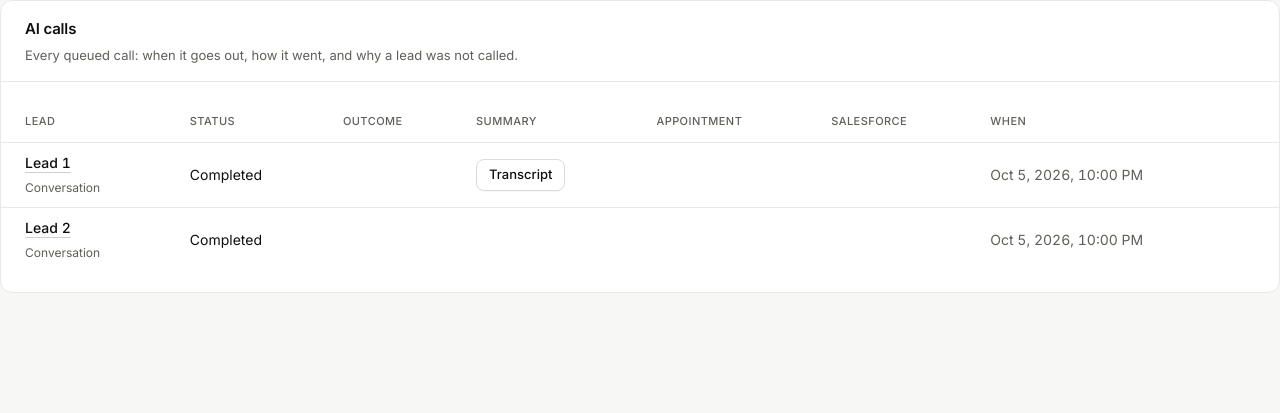
Test: AiCallResults › 4: the transcript opens only where it may be read, and labels who spoke
What coordinates should you click on to do the following:
click the button "Transcript"
I would click on:
 (521, 174)
Its box is [476, 158, 565, 190].
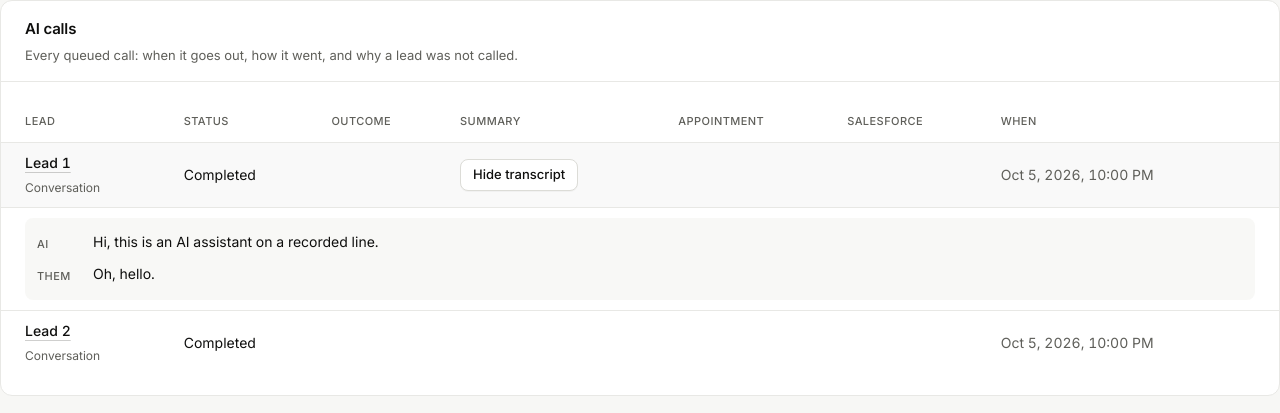
Result: the text "Hi, this is an AI assistant on a recorded line." is shown at [93, 232, 379, 250]
Result: the text "AI" is shown at [37, 236, 49, 250]
Result: the text "Them" is shown at [37, 268, 71, 282]
What coordinates should you click on to do the following:
click the button "Hide transcript"
I would click on:
 (519, 174)
Its box is [460, 158, 578, 190].
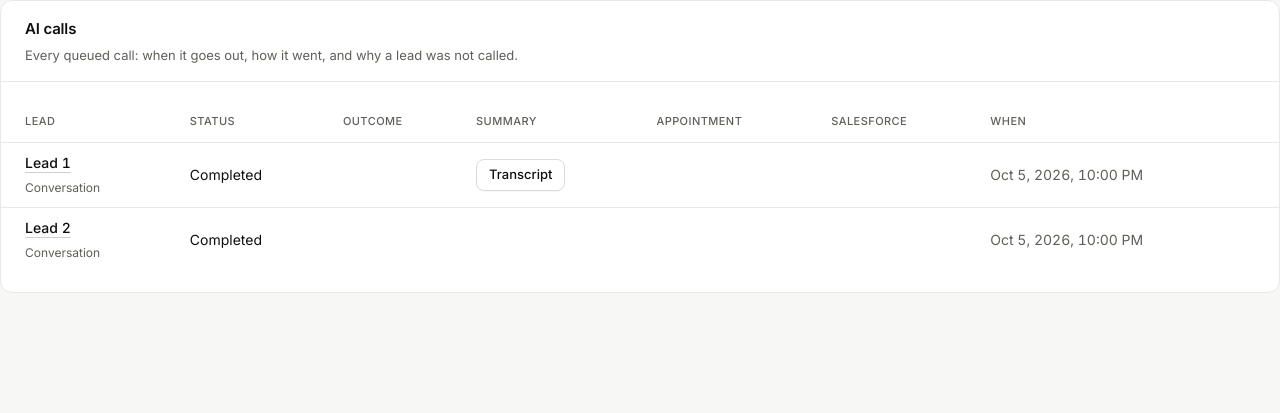
Result: the text "Oh, hello." is gone
